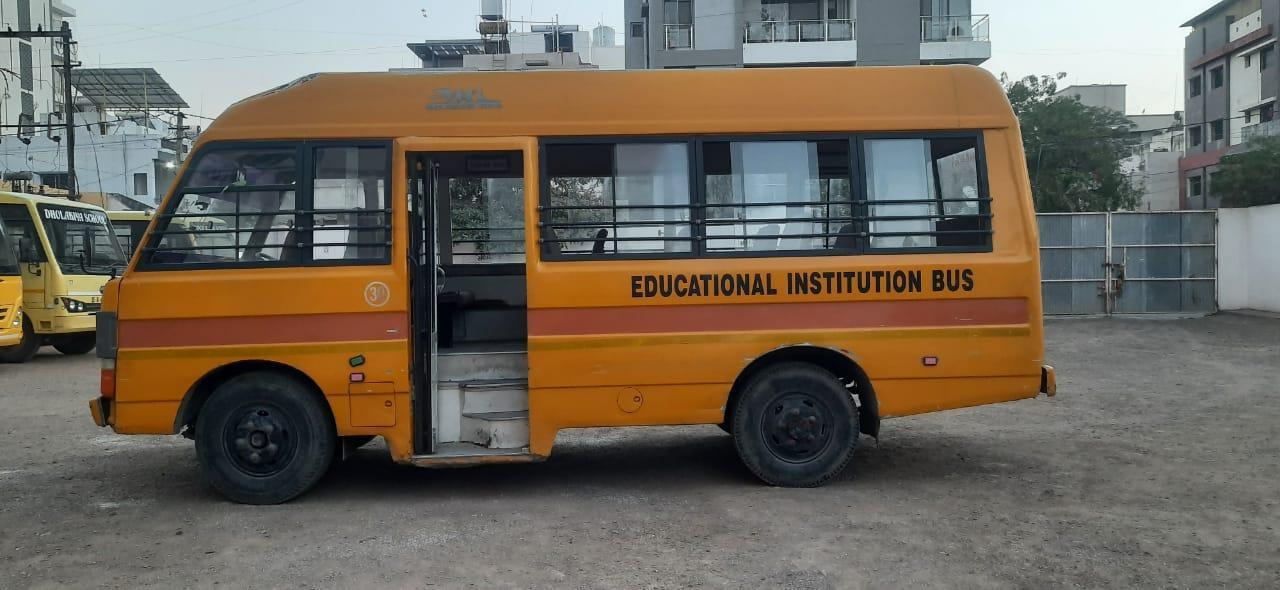Bus: (89, 54, 1075, 514)
